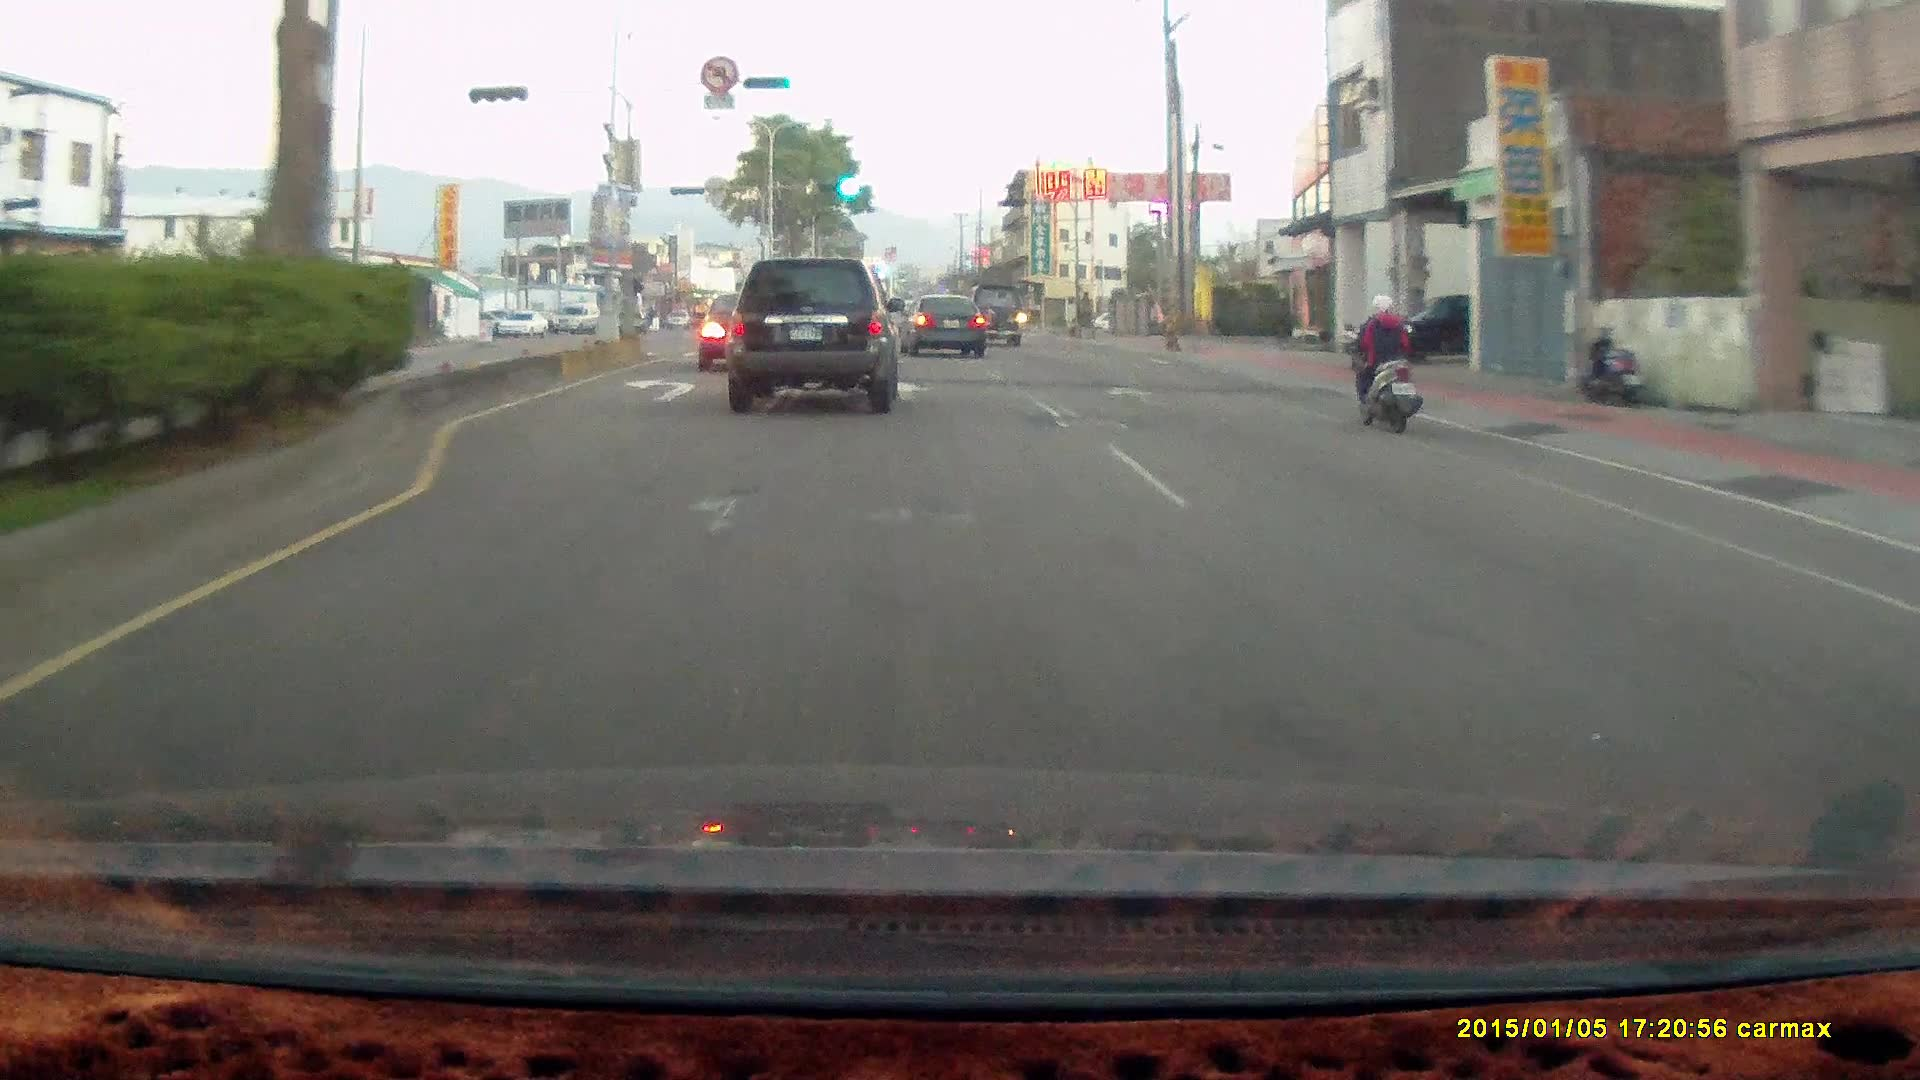rider: (1337, 284, 1434, 442), (1344, 289, 1421, 432)
vehicle: (719, 256, 901, 422), (723, 259, 903, 413), (1350, 292, 1536, 367), (1358, 289, 1484, 368), (697, 292, 805, 378), (694, 292, 800, 372), (905, 296, 989, 363), (901, 295, 986, 358), (959, 286, 1023, 353), (962, 286, 1024, 351), (495, 309, 548, 337), (551, 304, 600, 333)
